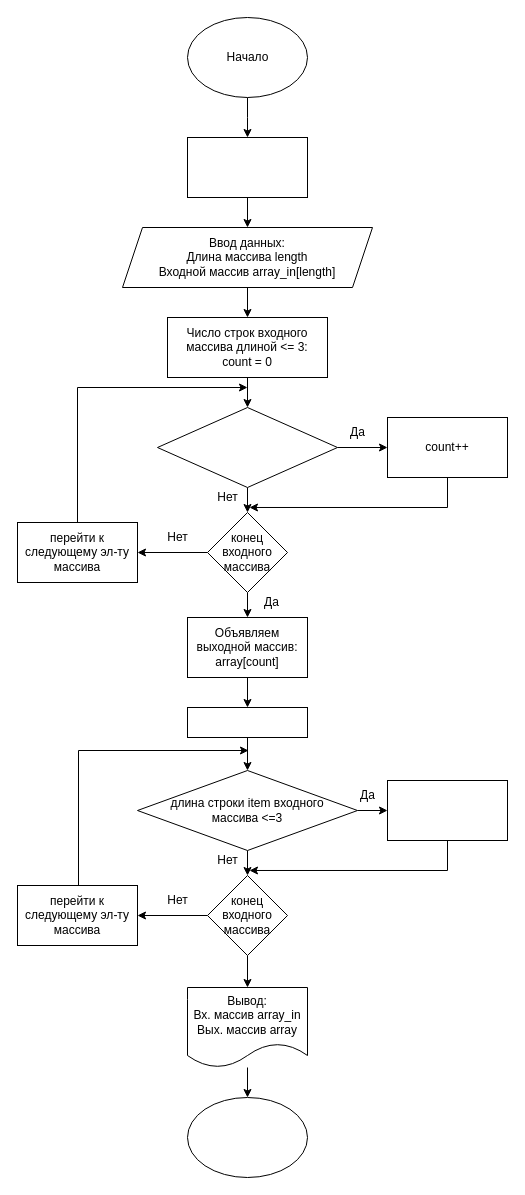
This 525x1195 diagram has some shape labels left out. The shapes that lost their labels are listed below. From the top down, each one's box as (x1, y1, x2, y2) in pixels, then its label:
(186, 136, 308, 198): макс. длина строк выходного массива len_string = 3
(156, 406, 338, 488): длина строки входного массива <=3
(186, 706, 308, 738): count = 0
(386, 780, 508, 840): array[count] = item count++
(186, 1096, 308, 1178): Конец
